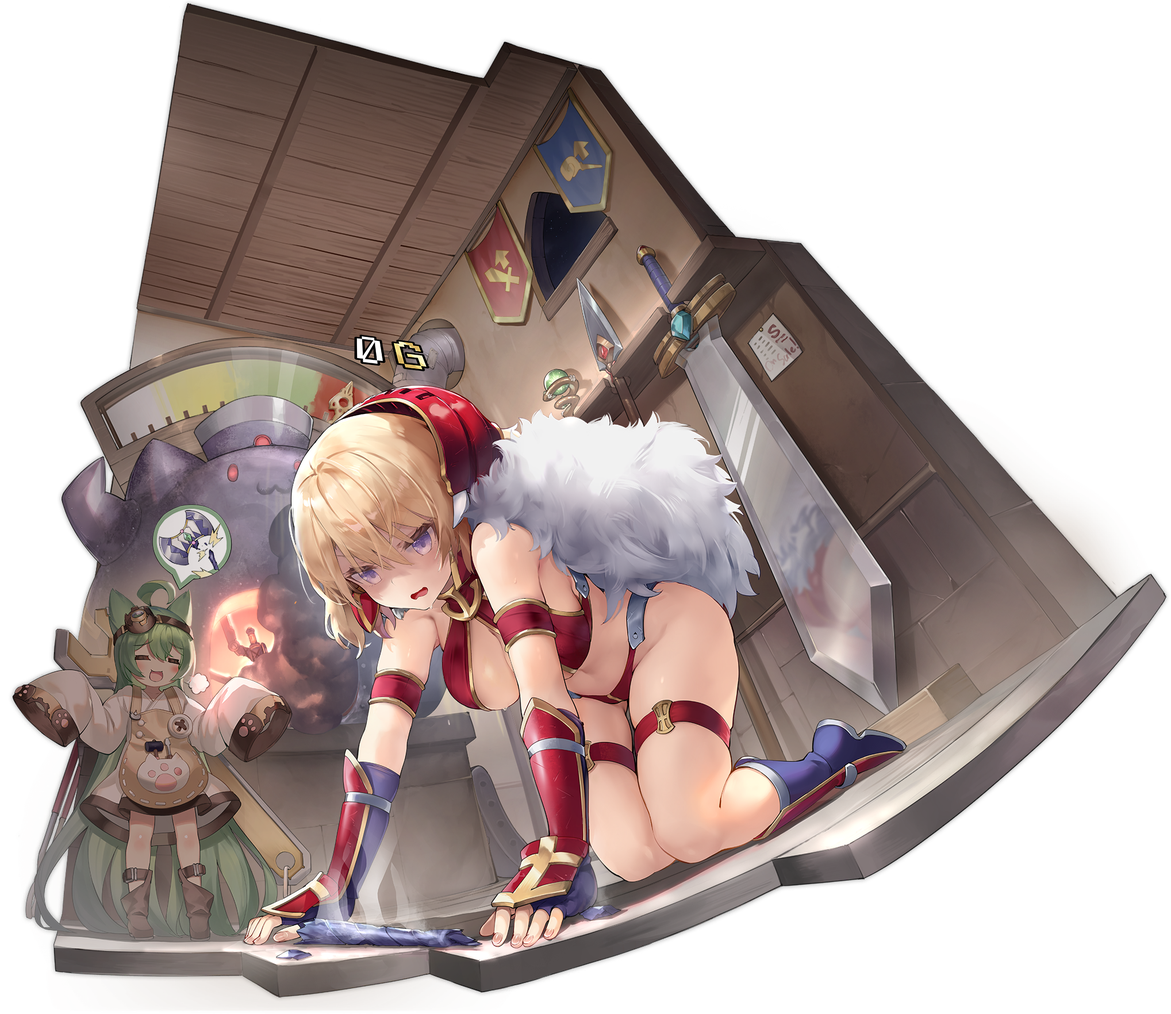person: (244, 333, 942, 965)
